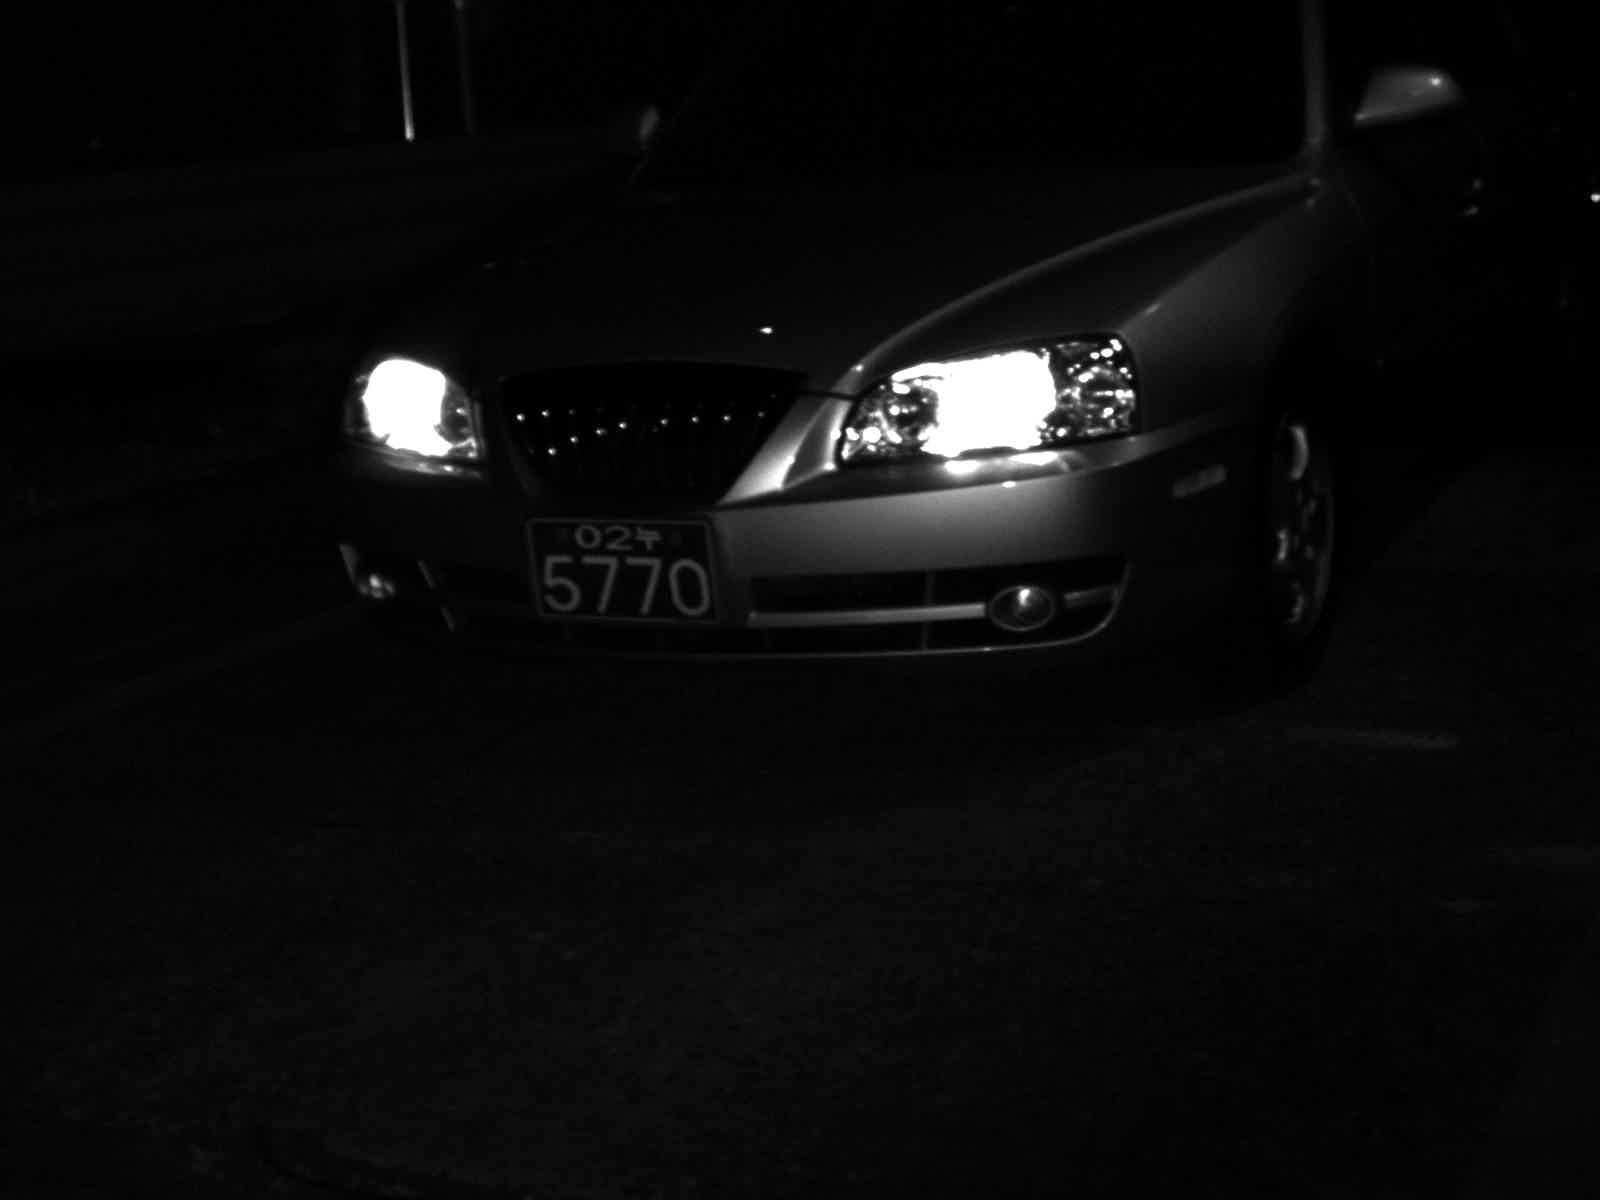P6_02누5770: (517, 505, 720, 621)
